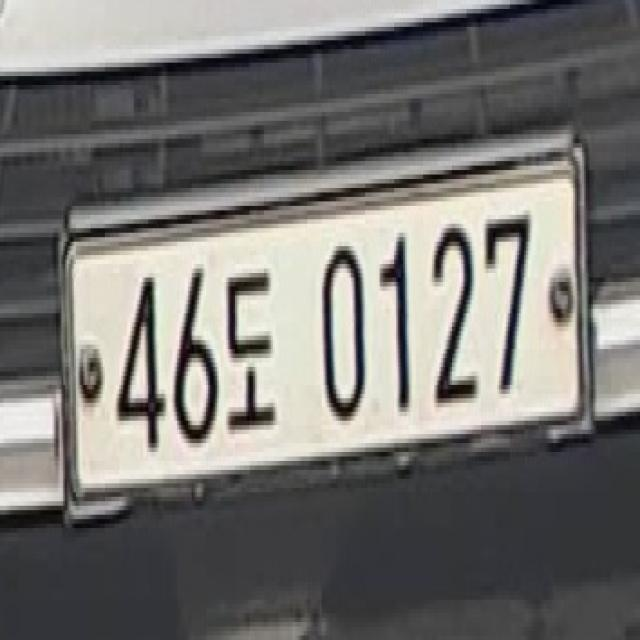0: (304, 229, 378, 437)
1: (378, 231, 422, 423)
2: (428, 220, 482, 420)
4: (104, 282, 170, 462)
6: (177, 269, 232, 462)
7: (486, 212, 536, 408)
do: (224, 263, 286, 462)
license_plate: (40, 156, 585, 466)
